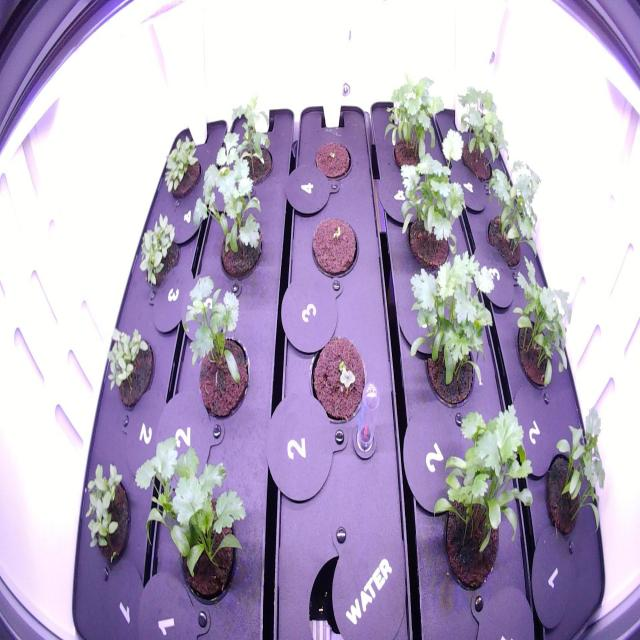germination: (301, 326, 371, 428), (80, 458, 134, 574), (102, 322, 159, 417), (306, 210, 362, 286), (135, 212, 183, 294), (158, 130, 204, 206), (312, 134, 355, 188)
